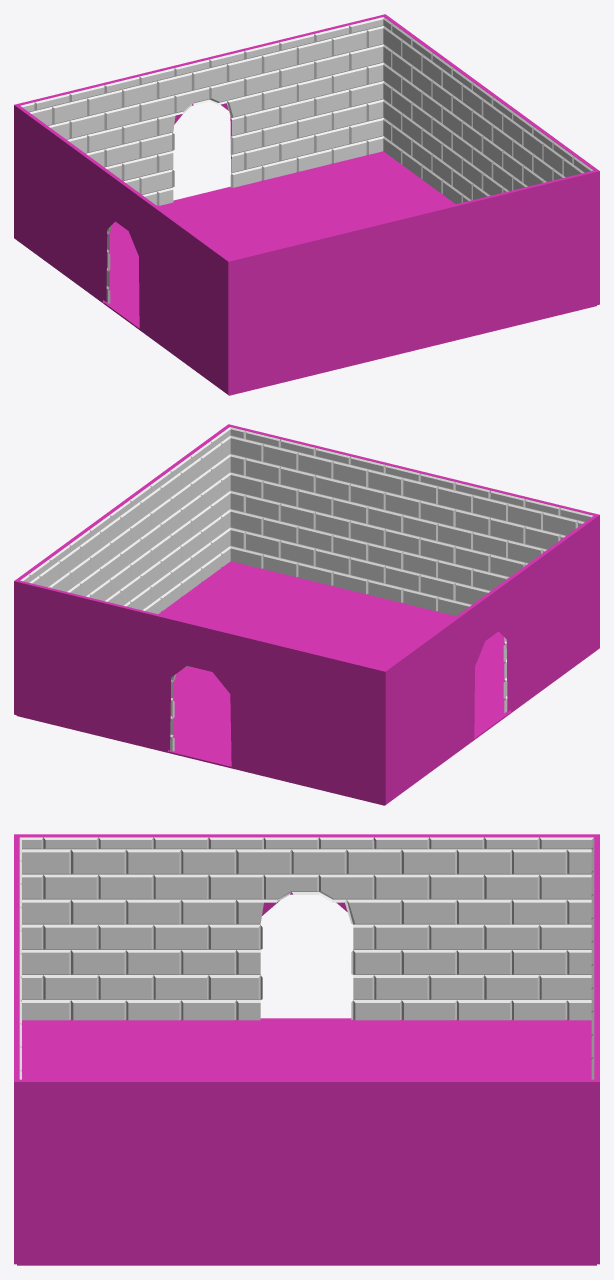
3 views of the same model, one above another, from view 1: azimuth 30°, elevation 25°; view 2: azimuth 150°, elevation 25°; view 3: azimuth 270°, elevation 25° (orthographic). The views are drawn at different scales.
Visible parts, largest first — view 1: Cube.008; view 2: Cube.008; view 3: Cube.008.
Boxes of the visible parts, box(x1,y1,x2,y2) form: Cube.008: box(14, 14, 599, 395); Cube.008: box(14, 424, 599, 805); Cube.008: box(14, 834, 599, 1265).
Size of the model in its own units: 2020 by 2020 by 703.
